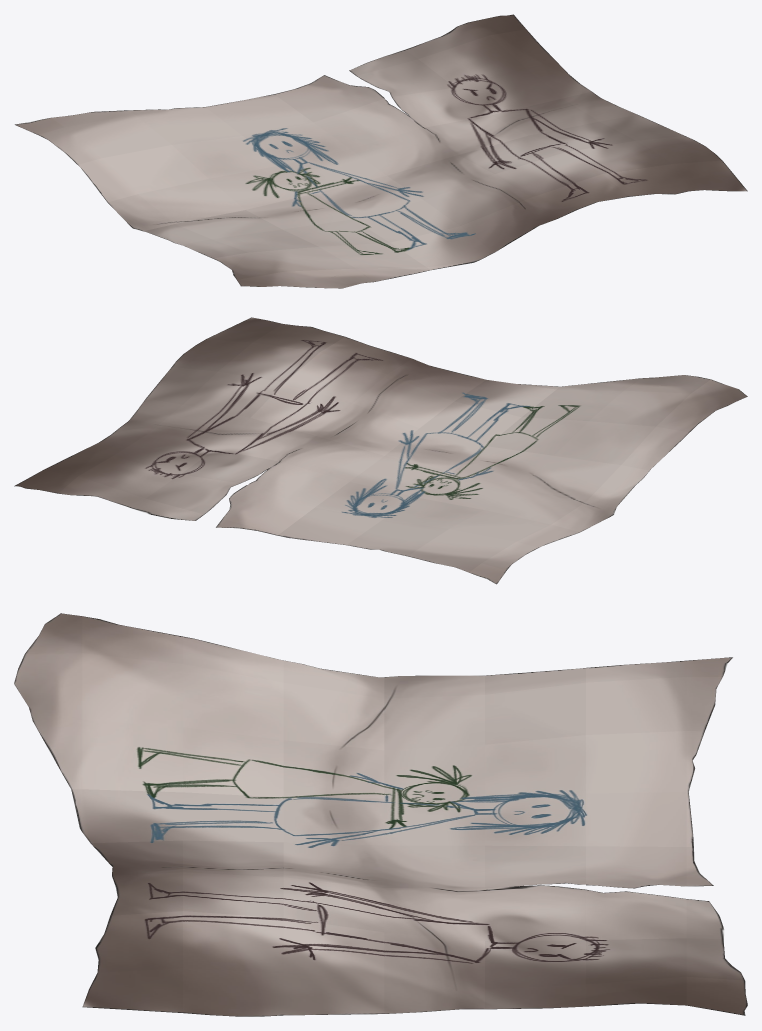
The model's file is pic2.fbx.
The picture shows the model from 3 angles, top to bottom: view 1: azimuth 30°, elevation 25°; view 2: azimuth 150°, elevation 25°; view 3: azimuth 270°, elevation 25°; orthographic projection. The views are drawn at different scales.
Visible parts, largest first — view 1: Picture; view 2: Picture; view 3: Picture.
Part boxes in pixels (box(x1,y1,x2,y2)): Picture: box(14, 14, 747, 288); Picture: box(14, 317, 747, 584); Picture: box(14, 613, 747, 1016).
Size of the model in its own units: 18.69 by 1.43 by 16.4.
